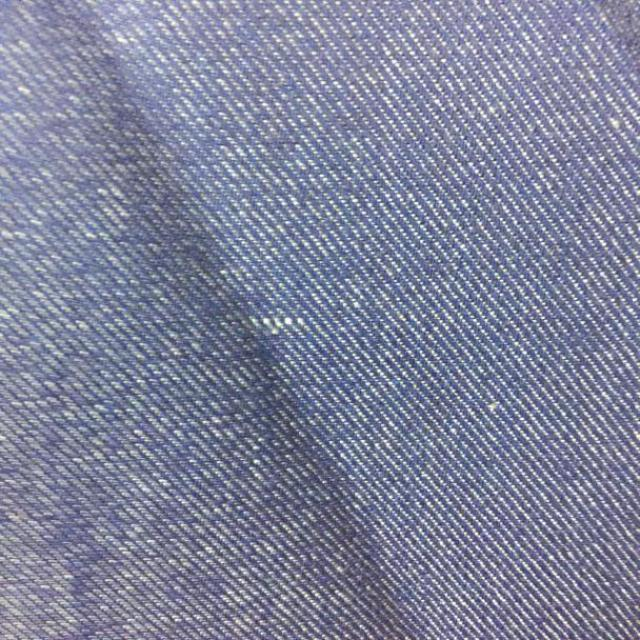Knot: (251, 317, 307, 337)
